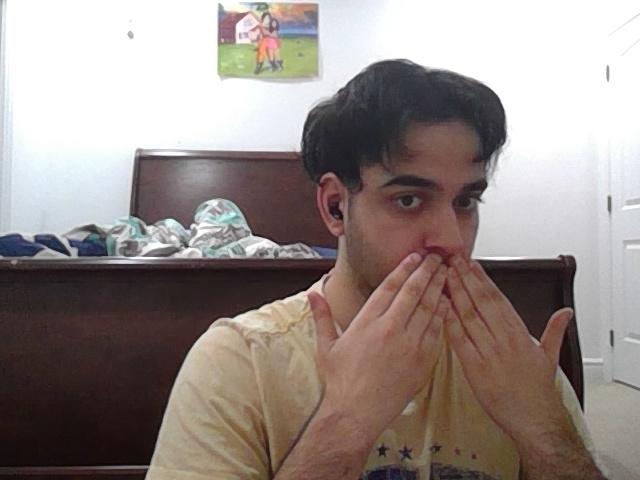Thank you: (308, 254, 580, 427)
